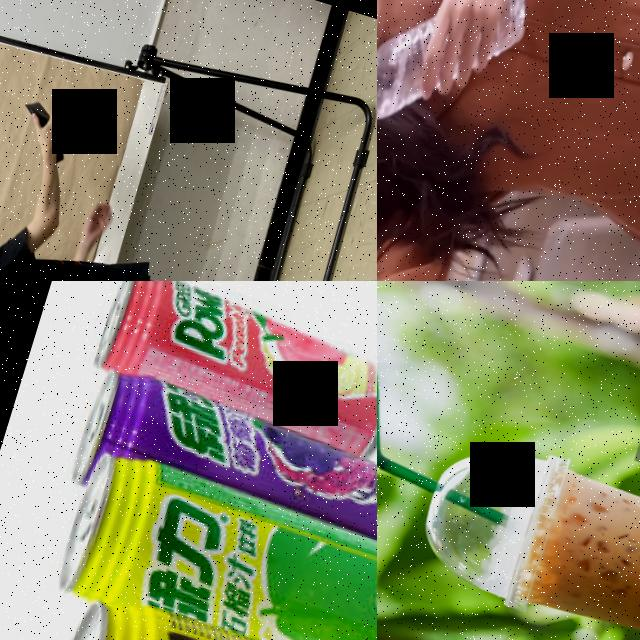bottle: (377, 0, 540, 154)
can: (64, 354, 377, 582), (45, 437, 377, 640), (85, 281, 377, 464)
cup: (405, 418, 640, 640)
